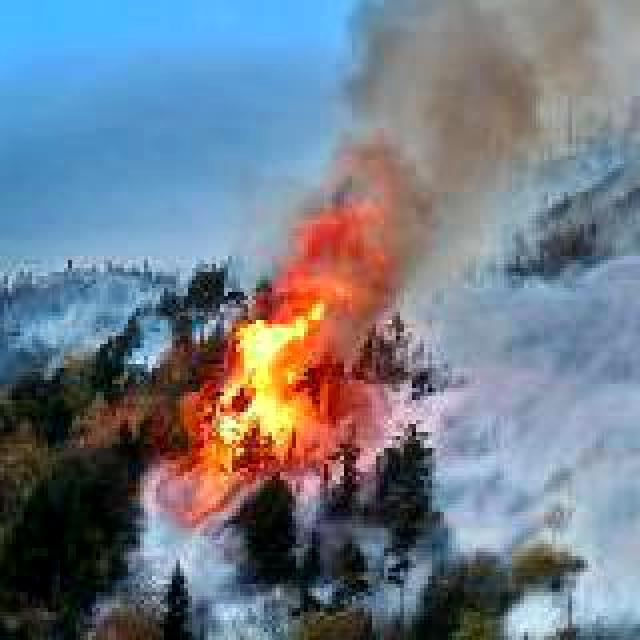smoke: (324, 0, 640, 280)
